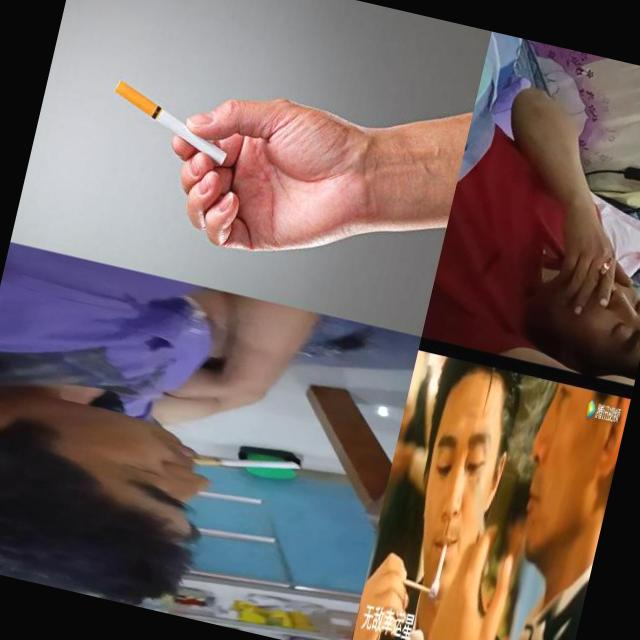smoke: (83, 54, 409, 286), (535, 201, 640, 327), (190, 438, 302, 488), (433, 542, 448, 584)
